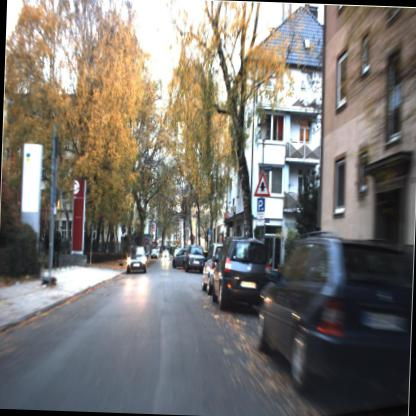danger: (252, 171, 274, 201)
